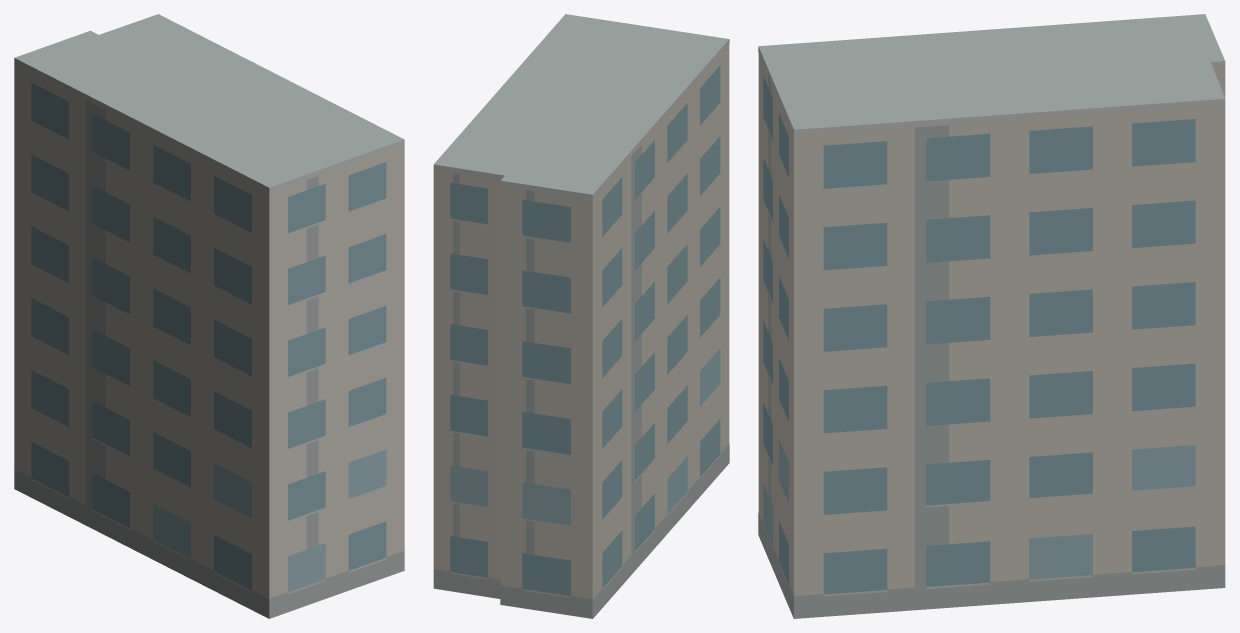
Rendered from survey-upis-32743047.glb.
3 renders of one model, left to right at view 1: azimuth 30°, elevation 25°; view 2: azimuth 150°, elevation 25°; view 3: azimuth 270°, elevation 25°, orthographic. The views are drawn at different scales.
Visible parts, largest first — view 1: survey-upis-32743047.tmp; view 2: survey-upis-32743047.tmp; view 3: survey-upis-32743047.tmp.
Part boxes in pixels (x1=…): survey-upis-32743047.tmp: x1=14, y1=14, x2=404, y2=618; survey-upis-32743047.tmp: x1=433, y1=14, x2=729, y2=618; survey-upis-32743047.tmp: x1=758, y1=14, x2=1225, y2=618.
Bounding box in the file's own units: 9.4 × 18.5 × 16.01.
